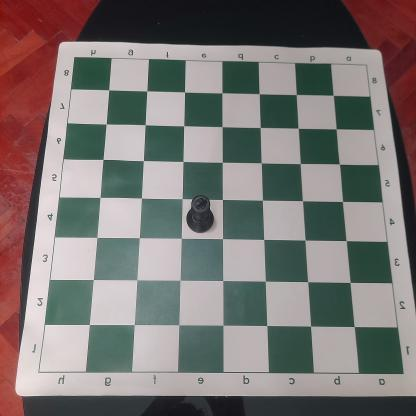black-king: (185, 193, 215, 235)
